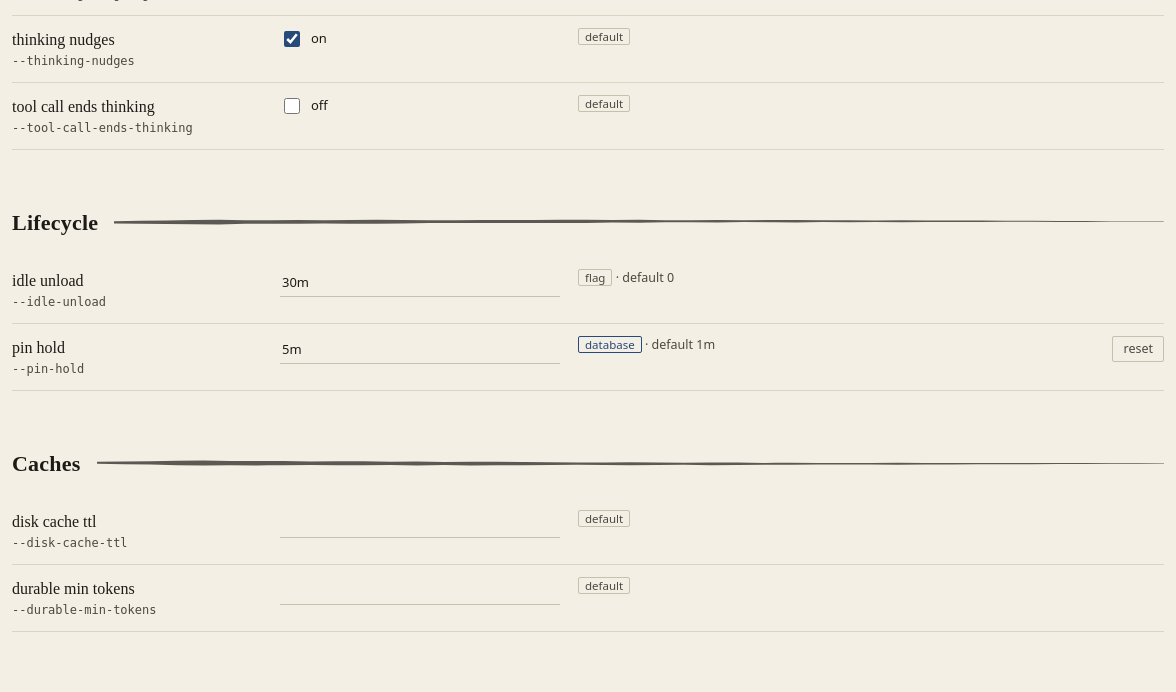
Test: SettingsView over the HTTP backend › a reset is a DELETE with the JSON content type and no body; the row goes back to its default
(page scrolled)
Click the button "reset".
click(1138, 349)  # box left=1112, top=336, right=1164, bottom=362
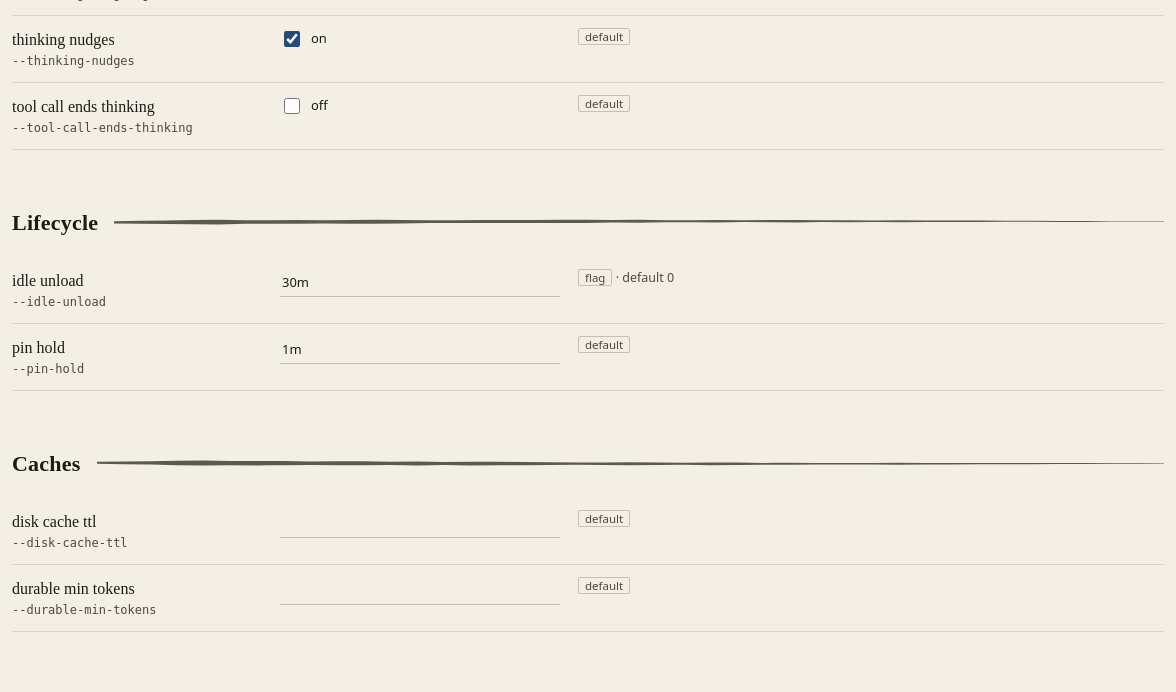
Expected: the element with class "set-row" shows "default", left=585, top=336, right=623, bottom=352
Expected: the field named "pin hold" holds "1m", left=280, top=336, right=560, bottom=364
